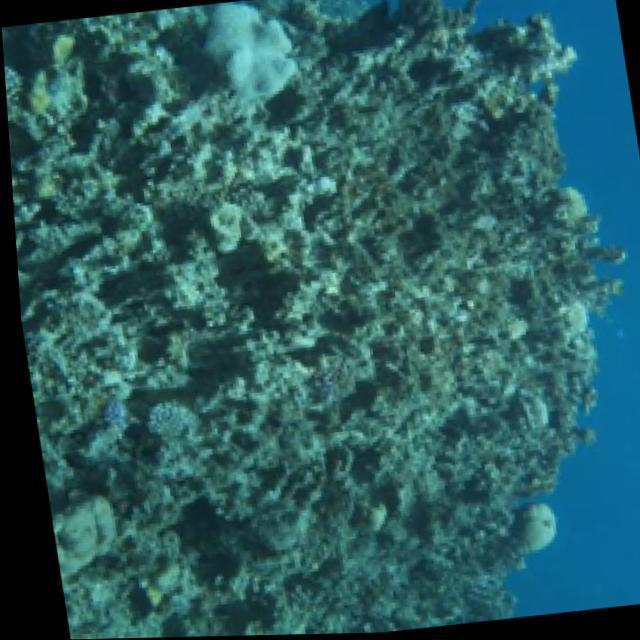Dead Coral: (6, 109, 640, 640), (3, 45, 249, 349), (321, 11, 565, 125), (186, 0, 310, 122)
